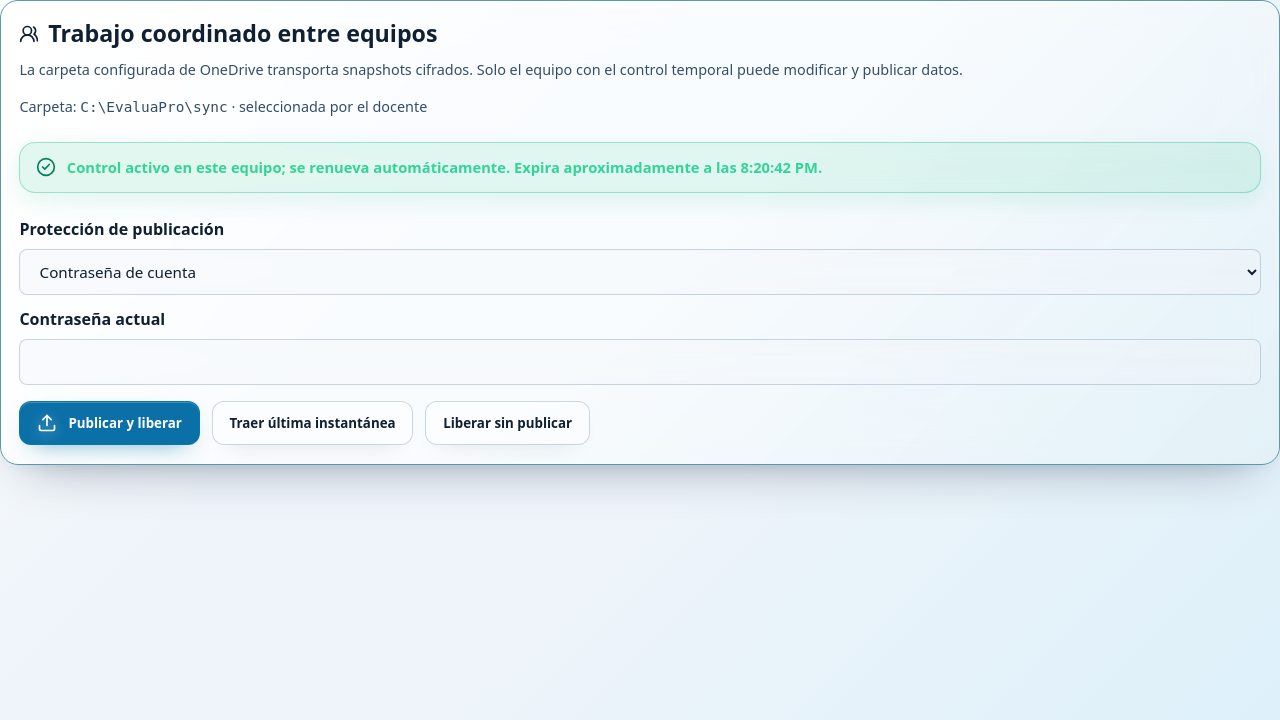
Test: SeccionLeaseSincronizacion: errores y toast contextual › anuncia una publicación exitosa en contexto sin duplicarla en toast
Type "clave-dummy-123" into the password field labelled "Contraseña actual" at (640, 362), box [19,339,1261,385]
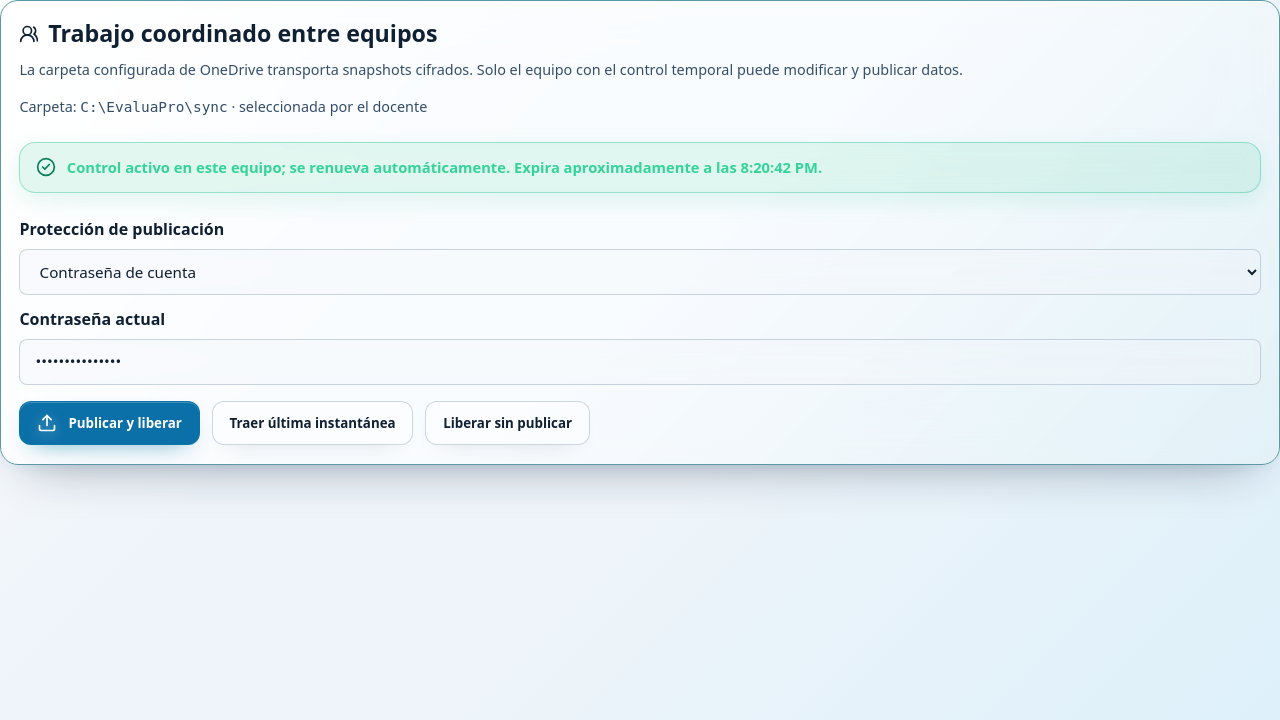
Click the button "Publicar y liberar" at (110, 423), box [19,401,200,445]
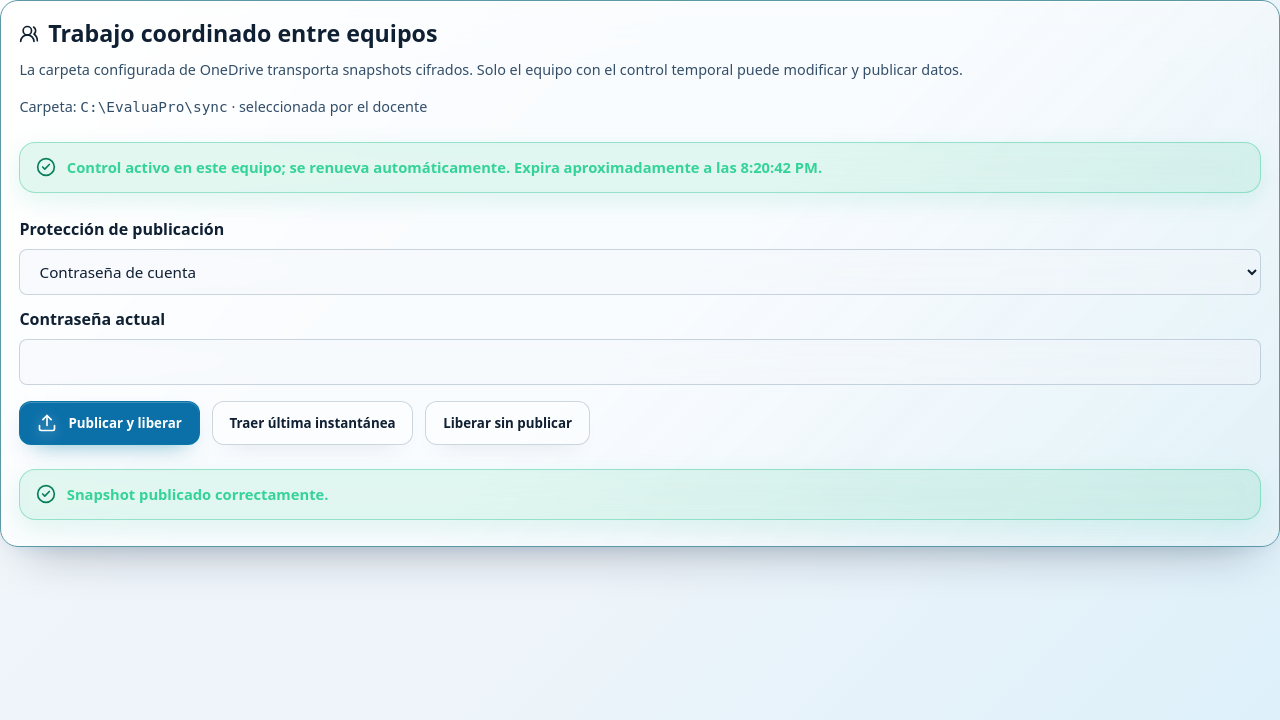
Expected: the text "Snapshot publicado correctamente." is shown, [19,469,1261,520]
